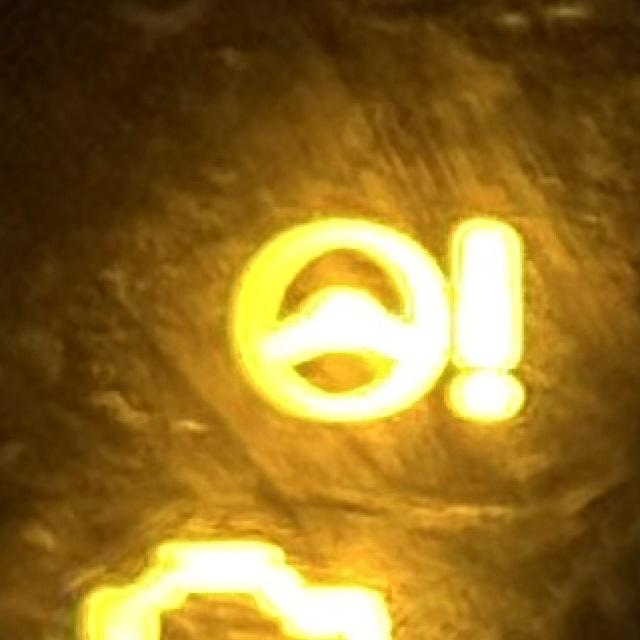Steering Wheel Locked: (230, 215, 530, 428)
